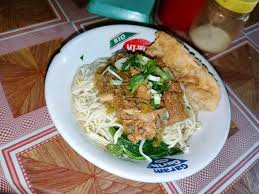Mie ayam: (65, 50, 192, 159)
Pangsit goreng: (148, 24, 223, 116)
